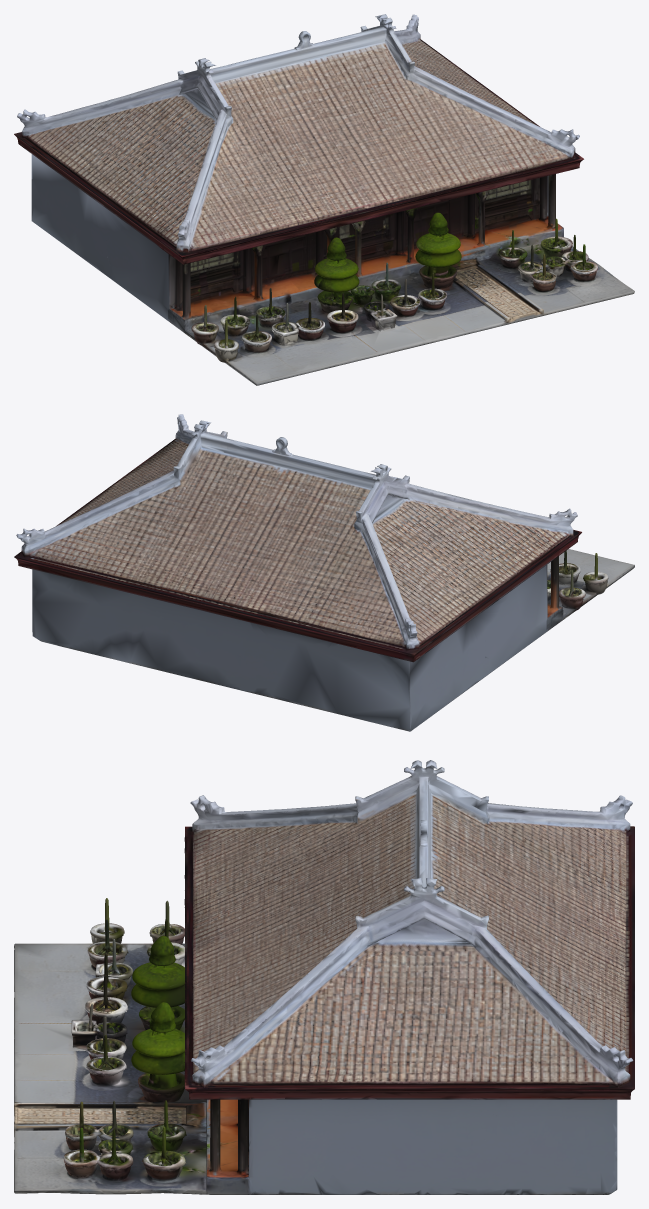
The model's file is nhacotrancongvang-v1.glb.
3 views of the same model, one above another, from view 1: azimuth 30°, elevation 25°; view 2: azimuth 150°, elevation 25°; view 3: azimuth 270°, elevation 25° (orthographic). The views are drawn at different scales.
Visible parts, largest first — view 1: node_0; view 2: node_0; view 3: node_0.
Boxes of the visible parts, x1,y1,x2,y2 form: node_0: (14,14,634,385); node_0: (14,414,634,731); node_0: (14,760,634,1194).
Bounding box in the file's own units: 0.8299 × 0.3808 × 0.8294.
1 material, 1 textured.
